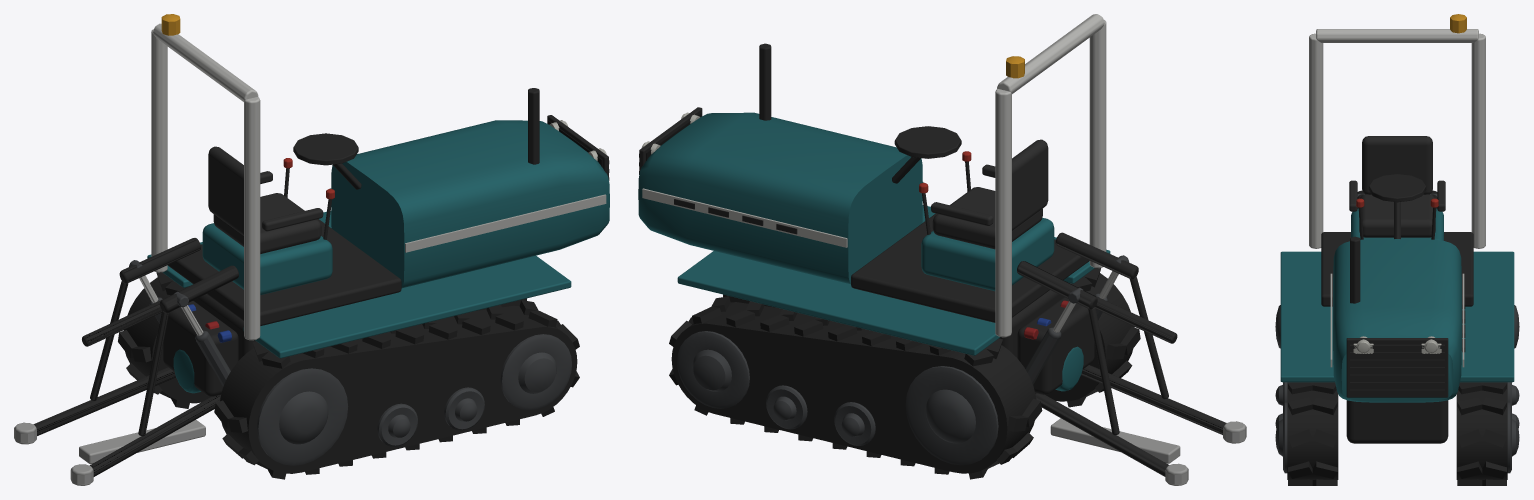
The model's file is SM_Prop_farm_crawler_0.glb.
3 views of the same model, side by side, from view 1: azimuth 30°, elevation 25°; view 2: azimuth 150°, elevation 25°; view 3: azimuth 270°, elevation 25° (orthographic). The views are drawn at different scales.
Visible parts, largest first — view 1: SM_Prop_farm_crawler_0; view 2: SM_Prop_farm_crawler_0; view 3: SM_Prop_farm_crawler_0.
Part boxes in pixels (bbox=[...]): SM_Prop_farm_crawler_0: bbox=[14, 14, 609, 485]; SM_Prop_farm_crawler_0: bbox=[638, 14, 1246, 485]; SM_Prop_farm_crawler_0: bbox=[1275, 14, 1519, 485].
Size of the model in its own units: 3.25 by 2.3 by 1.44.
